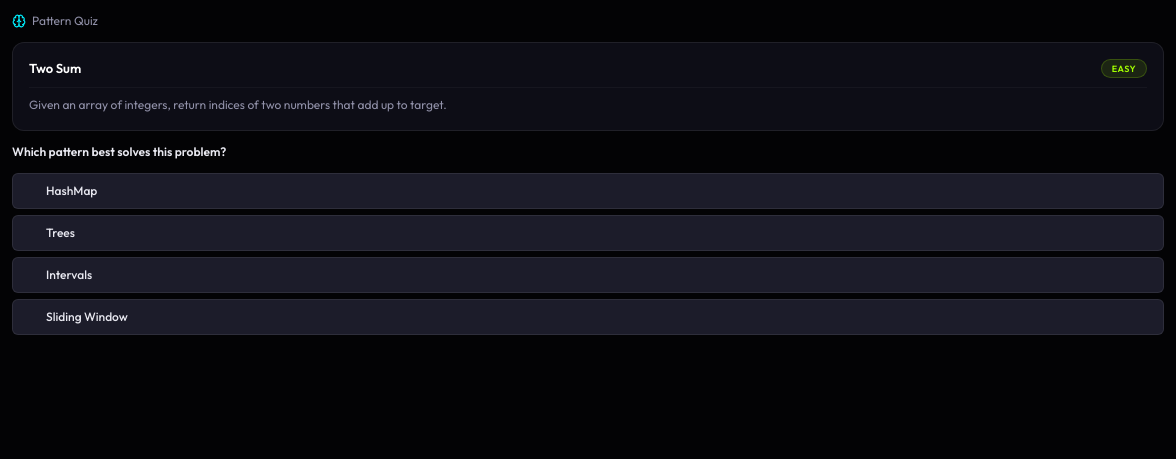
PatternQuizPanel › answering correctly › shows Start Solving button after correct answer
Click the button "HashMap". click: {"x": 72, "y": 190}
box: [12,172,1164,208]
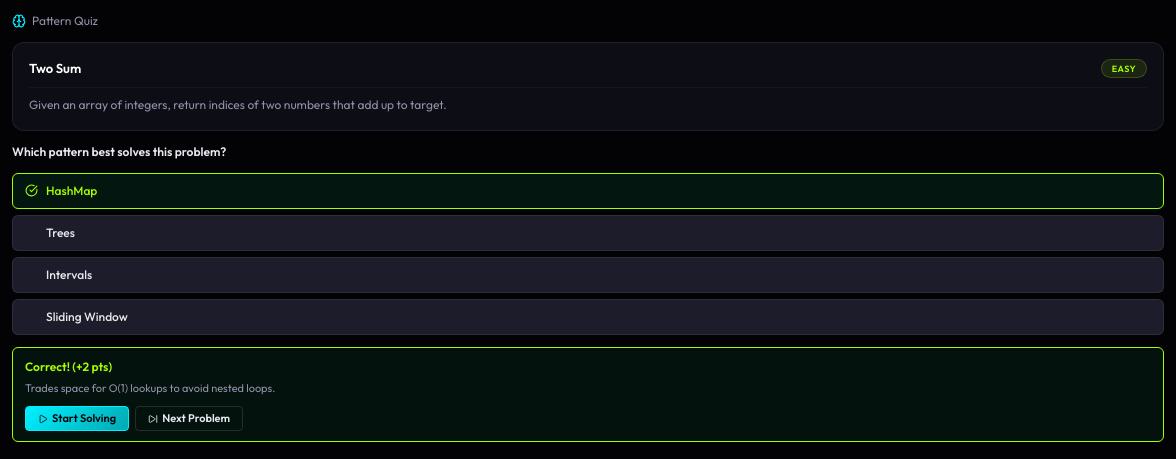
Now the button "Start Solving" is shown, box [25,406,129,431]
